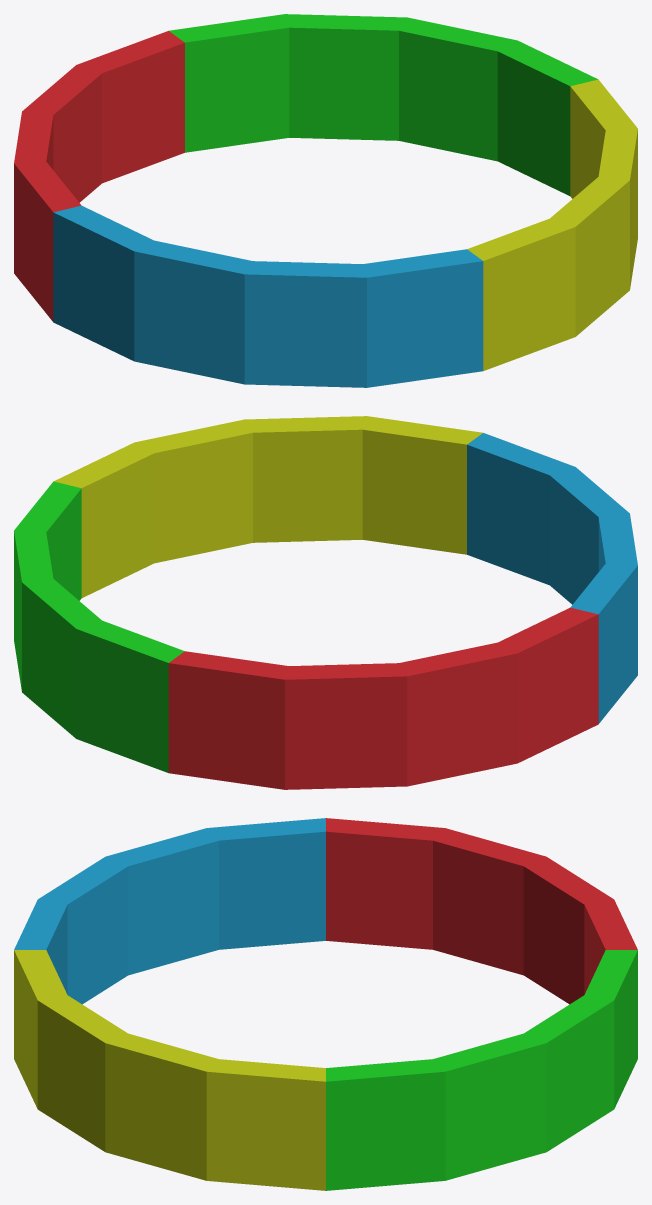
The model's file is Colour_trap.fbx.
The picture shows the model from 3 angles, top to bottom: view 1: azimuth 30°, elevation 25°; view 2: azimuth 150°, elevation 25°; view 3: azimuth 270°, elevation 25°; orthographic projection.
Parts seen in each view (by area): view 1: Cylinder; view 2: Cylinder; view 3: Cylinder.
Part boxes in pixels (x1,y1,x2,y2): Cylinder: (14,14,637,387); Cylinder: (14,416,637,789); Cylinder: (14,818,637,1190).
Size of the model in its own units: 200 by 38.61 by 200.
